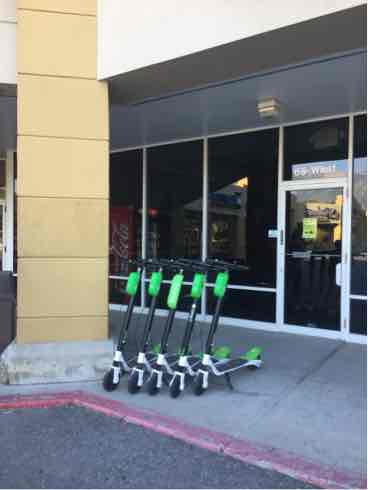scooter: (196, 255, 264, 394), (99, 254, 163, 394), (176, 246, 233, 400), (157, 243, 206, 399), (144, 247, 191, 398)
